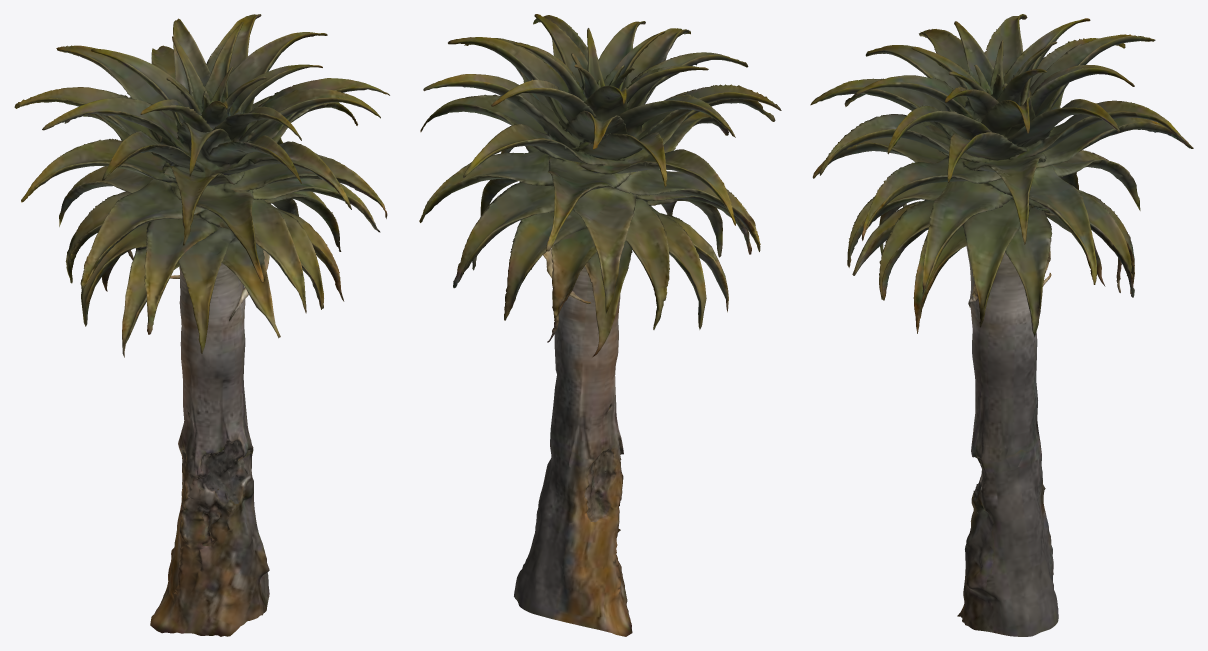
The picture shows the model from 3 angles, left to right: view 1: azimuth 30°, elevation 25°; view 2: azimuth 150°, elevation 25°; view 3: azimuth 270°, elevation 25°; orthographic projection.
Parts seen in each view (by area): view 1: quiver_tree_02; view 2: quiver_tree_02; view 3: quiver_tree_02.
Part boxes in pixels (box(x1,y1,x2,y2)): quiver_tree_02: box(14, 14, 389, 636); quiver_tree_02: box(419, 14, 781, 636); quiver_tree_02: box(810, 14, 1193, 636).
Bounding box in the file's own units: 0.8716 × 1.47 × 0.8808.
1 material, 1 textured.
